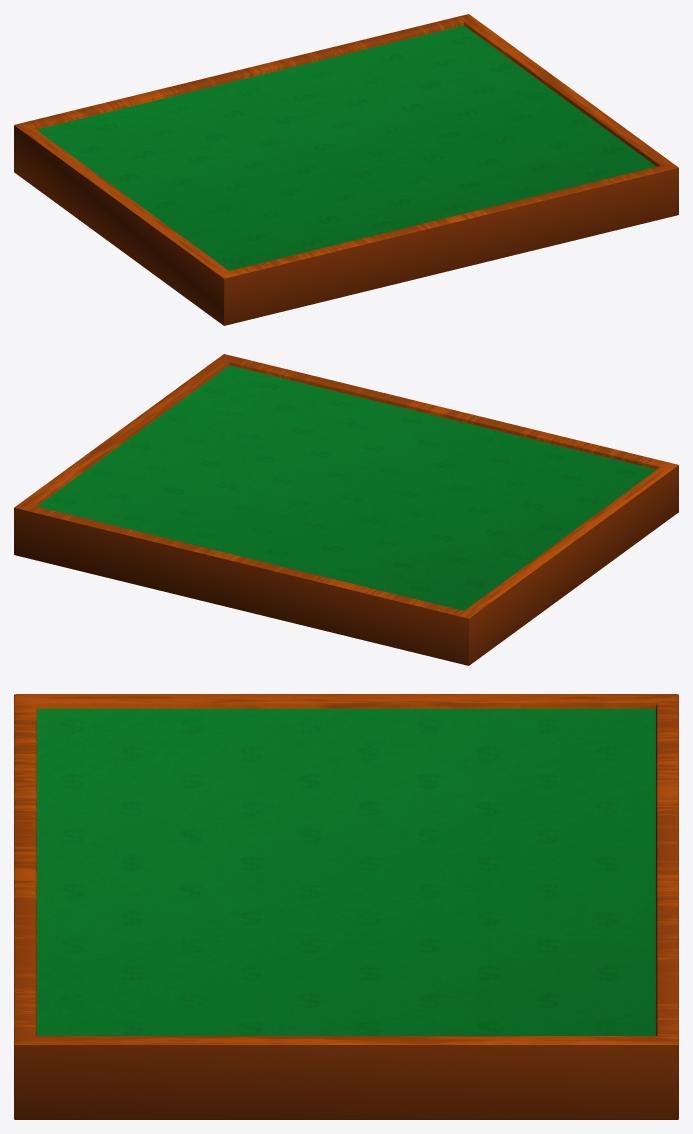
The model's file is Sol_Table.fbx.
3 renders of one model, top to bottom at view 1: azimuth 30°, elevation 25°; view 2: azimuth 150°, elevation 25°; view 3: azimuth 270°, elevation 25°, orthographic. The views are drawn at different scales.
Parts seen in each view (by area): view 1: Sol_Table_Baked; view 2: Sol_Table_Baked; view 3: Sol_Table_Baked.
Boxes of the visible parts, bbox=[...] form: Sol_Table_Baked: bbox=[14, 14, 678, 325]; Sol_Table_Baked: bbox=[14, 354, 678, 665]; Sol_Table_Baked: bbox=[14, 694, 678, 1119].
Bounding box in the file's own units: 400 × 40 × 320.
